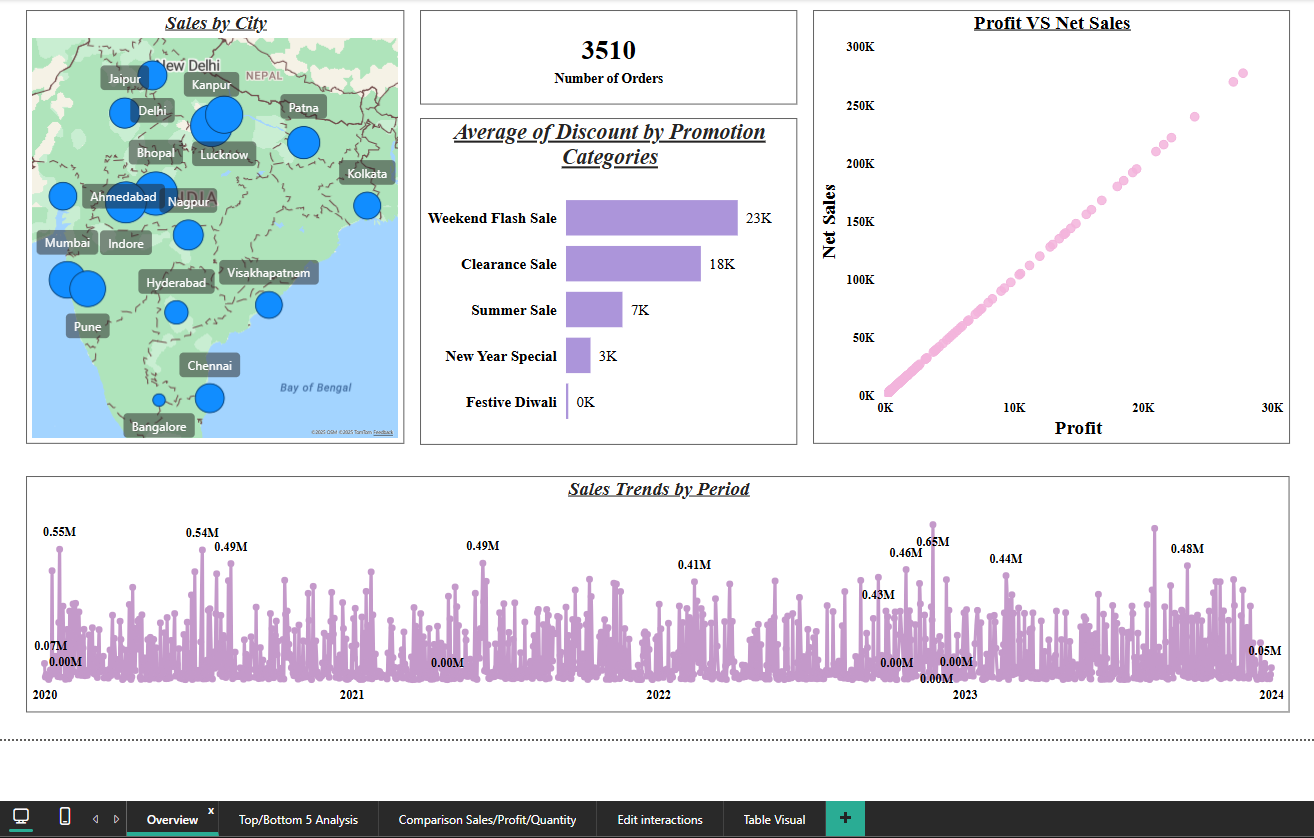

The page's visual inventory and layout, read from the dashboard file:
{"tool":"powerbi","page":{"name":"Overview","canvas":[1280,720],"ordinal":0},"visuals":[{"type":"lineChart","title":"Sales Trends by Period","fields":{"Y":["Sum(Fact Table.Net Sales    )"],"Category":["Fact Table.Date (dd/mm/yyyy).Variation.Date Hierarchy.Year"]},"box":[25.8,463.5,1229.3,230.4],"z":0},{"type":"scatterChart","title":"Profit VS Net Sales    ","fields":{"X":["Fact Table.Profit"],"Y":["Fact Table.Net Sales    "]},"box":[791.6,11.1,463.5,422.1],"z":1000},{"type":"barChart","title":"Average of Discount by Promotion Categories","fields":{"Y":["Avg(Fact Table.Discount Value)"],"Category":["Dim Promotion.Promotion Name"]},"box":[409.1,115.5,367.3,317.8],"z":2000},{"type":"map","title":"Sales by City","fields":{"Category":["Dim Customers.City"],"Size":["Sum(Fact Table.Net Sales    )"]},"box":[26.2,10.5,368,422.5],"z":3000},{"type":"card","fields":{"Values":["Count(Fact Table.OrderID)"]},"box":[409.1,11,367.3,92.4],"z":4000}]}

Visuals, with their boxes on the page's 1280x720 design canvas (x1, y1, x2, y2). These are canvas units, not pixel positions in the 1314x838 screenshot, which may show the page scaled, cropped or inside an application window:
"Sales Trends by Period" lineChart: (26, 464, 1255, 694)
"Profit VS Net Sales    " scatterChart: (792, 11, 1255, 433)
"Average of Discount by Promotion Categories" barChart: (409, 116, 776, 433)
"Sales by City" map: (26, 10, 394, 433)
card - Count(Fact Table.OrderID): (409, 11, 776, 103)
